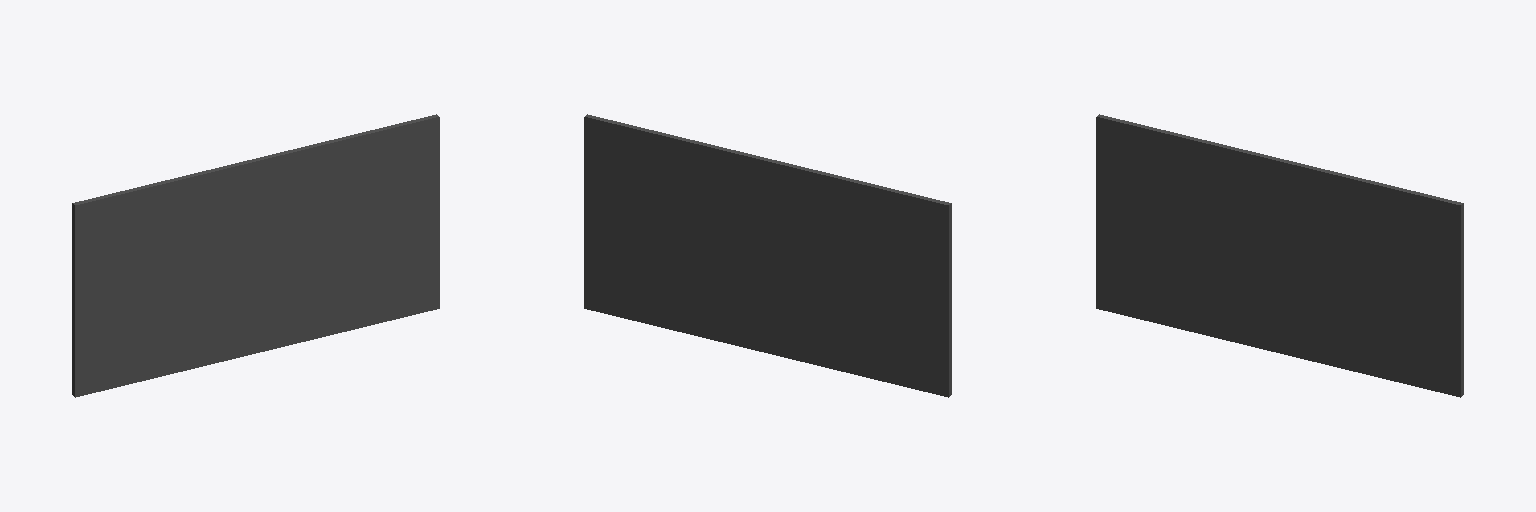
The model's file is wall.obj.
3 renders of one model, left to right at view 1: azimuth 30°, elevation 25°; view 2: azimuth 150°, elevation 25°; view 3: azimuth 330°, elevation 25°, orthographic.
Visible parts, largest first — view 1: pCube2; view 2: pCube2; view 3: pCube2.
Boxes of the visible parts, x1=… form: pCube2: x1=72, y1=114, x2=439, y2=397; pCube2: x1=584, y1=114, x2=951, y2=397; pCube2: x1=1096, y1=114, x2=1463, y2=397.
Bounding box in the file's own units: 33.77 × 17.02 × 0.5.